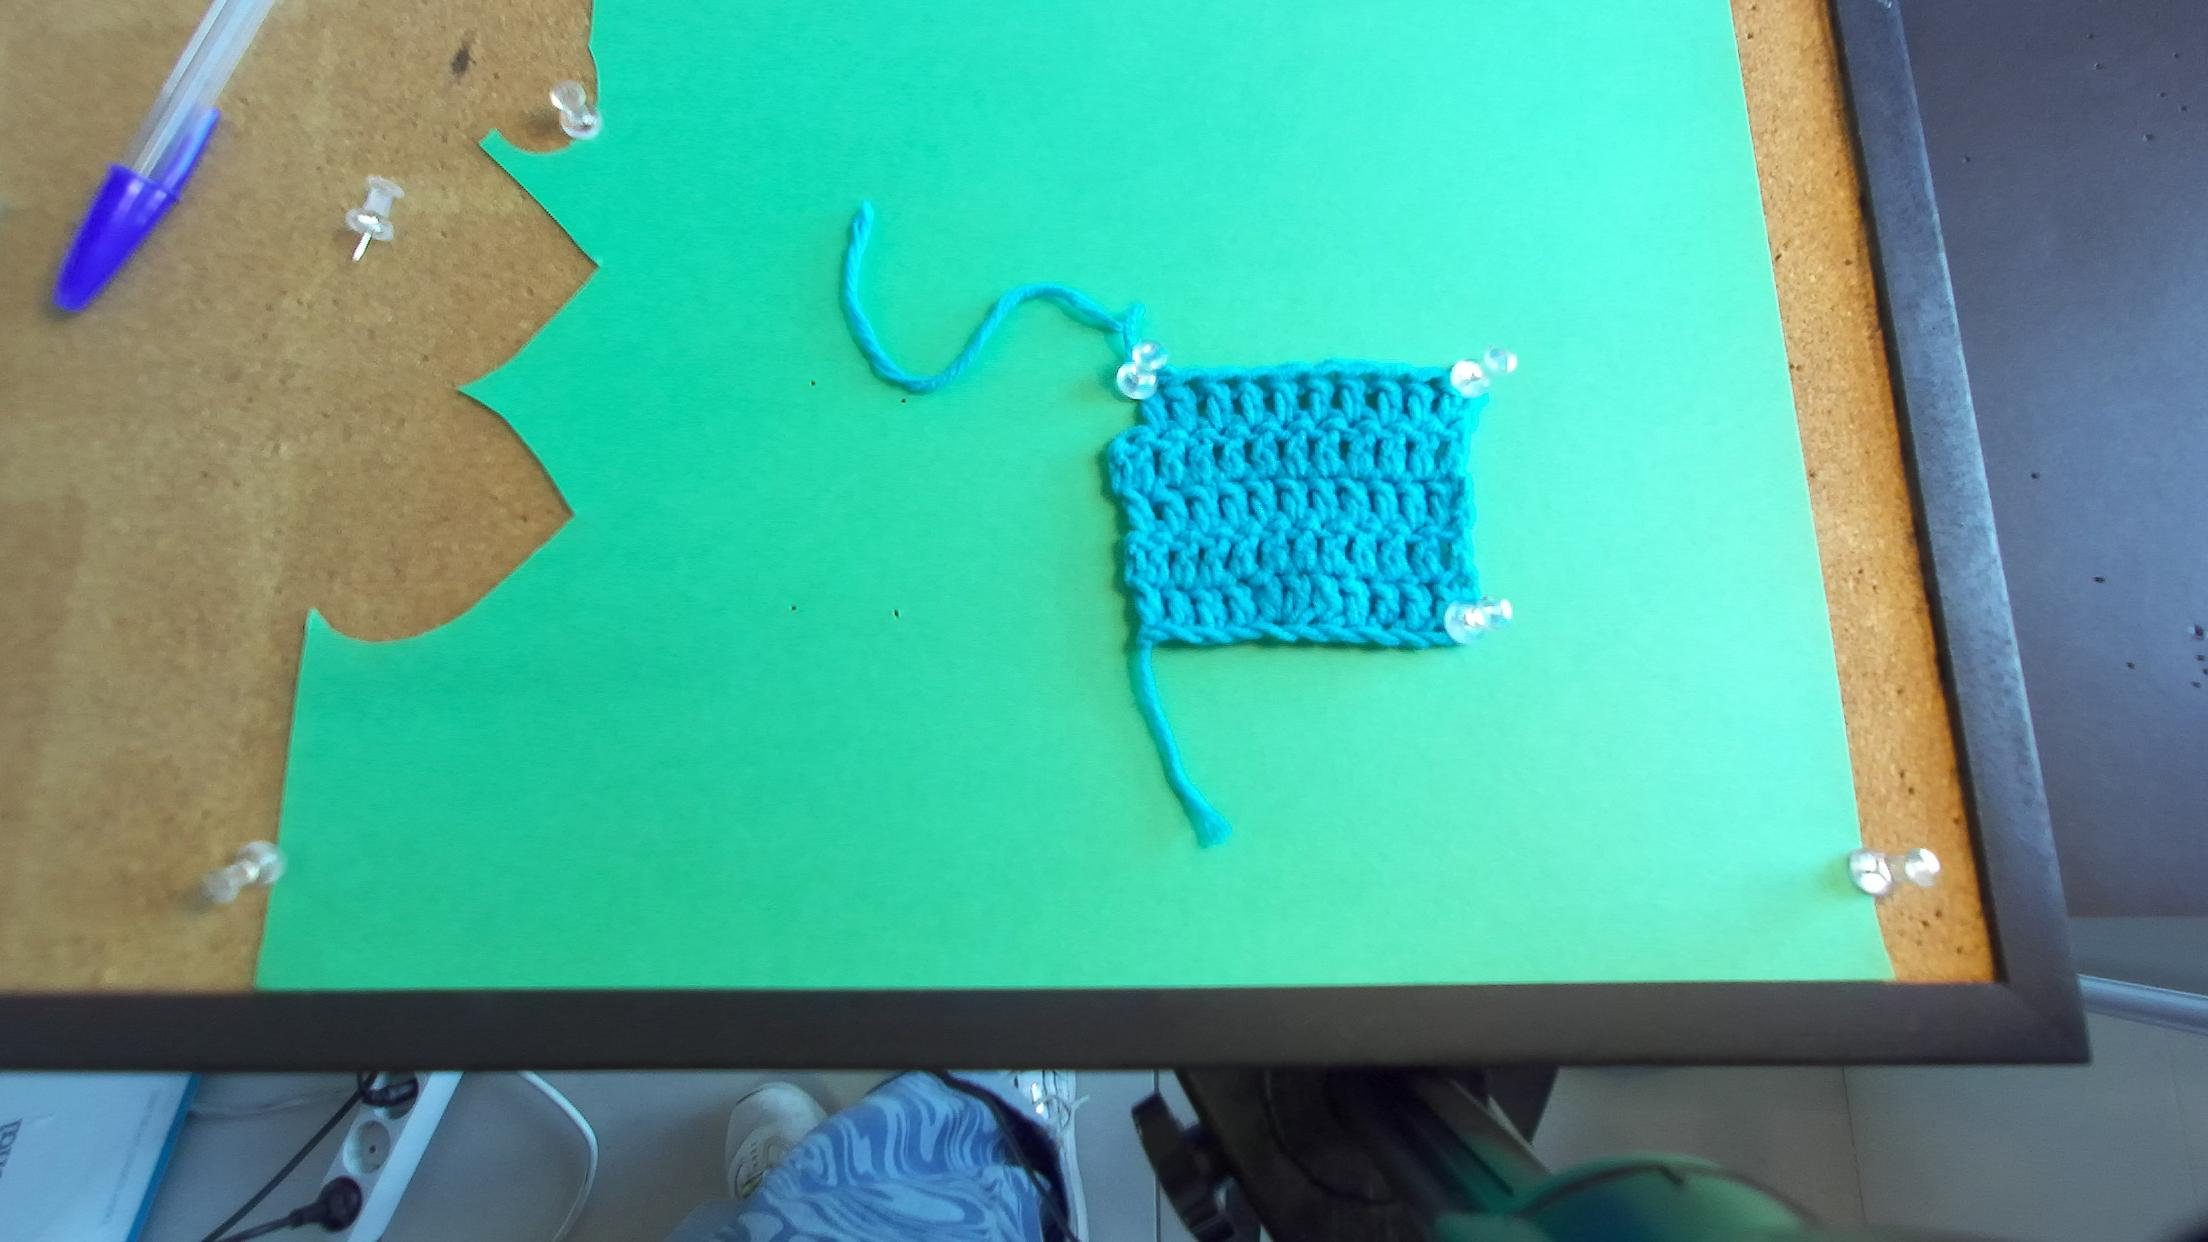hole: (1181, 376, 1202, 394), (1214, 376, 1240, 390), (1249, 375, 1270, 390), (1359, 373, 1379, 386), (1393, 375, 1413, 388), (1292, 372, 1310, 386), (1424, 377, 1443, 390), (1323, 370, 1340, 384), (1157, 380, 1172, 391)
swatch: (1104, 352, 1512, 650)
